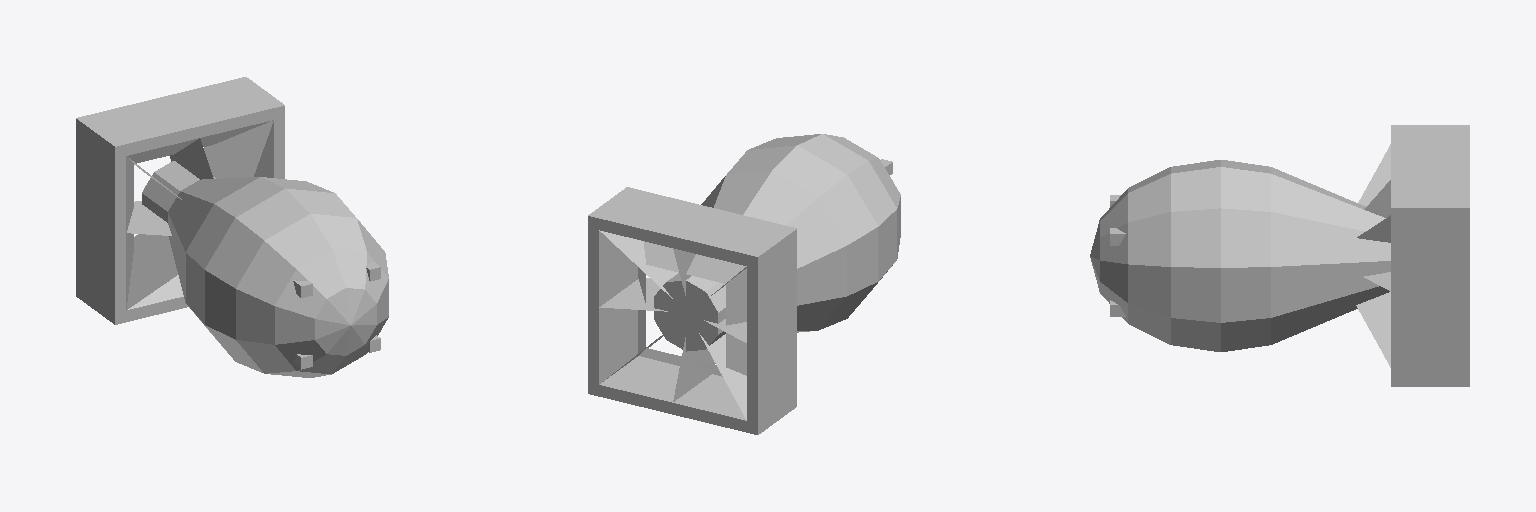
The model's file is fat_man.obj.
3 renders of one model, left to right at view 1: azimuth 30°, elevation 25°; view 2: azimuth 150°, elevation 25°; view 3: azimuth 270°, elevation 25°, orthographic.
Parts seen in each view (by area): view 1: Fat_Man; view 2: Fat_Man; view 3: Fat_Man.
Boxes of the visible parts, x1=… form: Fat_Man: x1=76, y1=77, x2=388, y2=377; Fat_Man: x1=588, y1=134, x2=900, y2=434; Fat_Man: x1=1090, y1=125, x2=1469, y2=386.
Size of the model in its own units: 1.5 by 1.5 by 2.9.